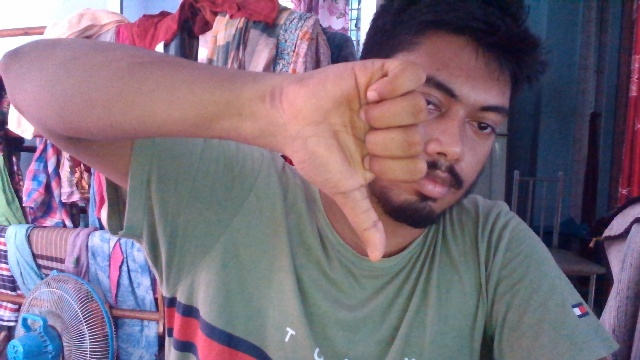no: (266, 49, 433, 272)
